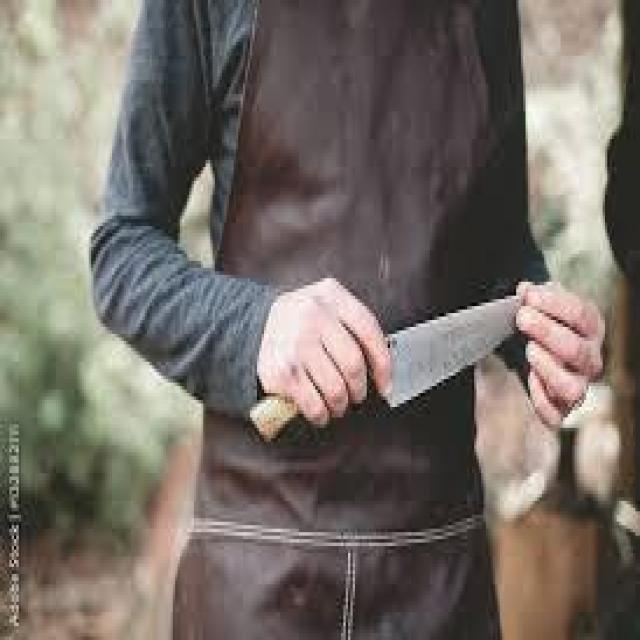faca: (259, 244, 568, 476)
